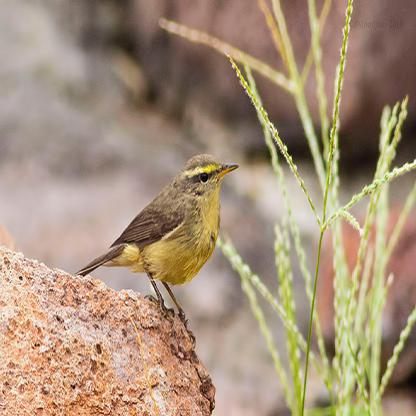Burung: (73, 152, 247, 314)
